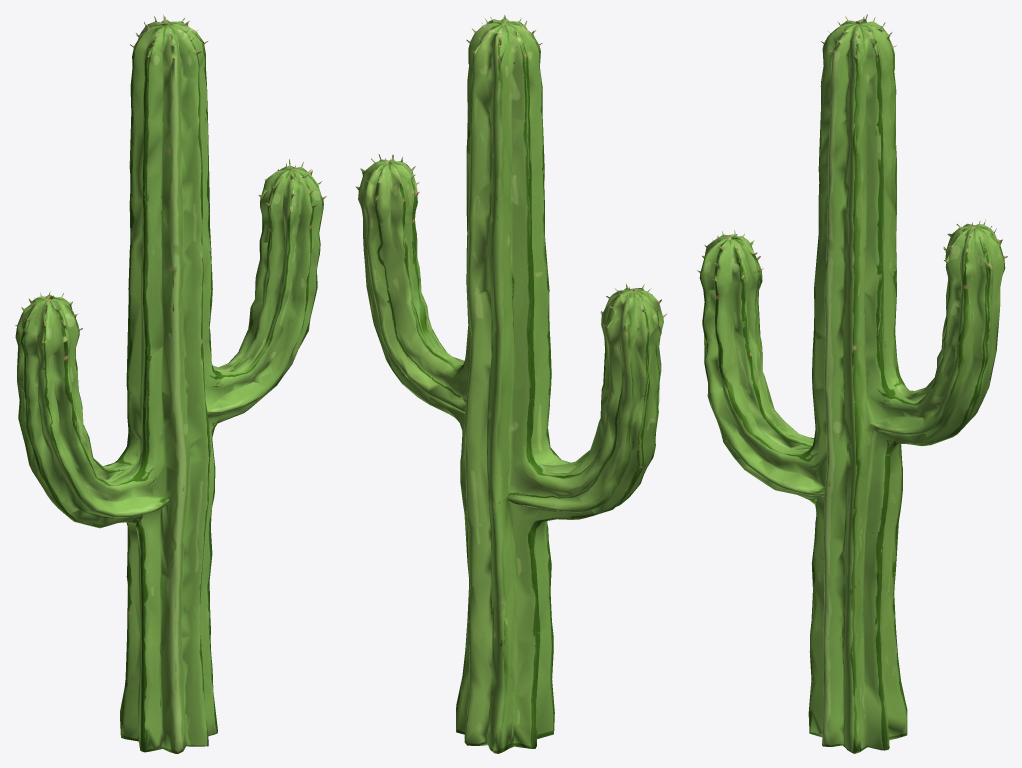
Rendered from canyonCactus.a55c8972.glb.
3 views of the same model, side by side, from view 1: azimuth 30°, elevation 25°; view 2: azimuth 150°, elevation 25°; view 3: azimuth 330°, elevation 25° (orthographic).
Size of the model in its own units: 0.8387 by 1.9 by 0.2258.
Materials: 1 (1 with a texture image).
